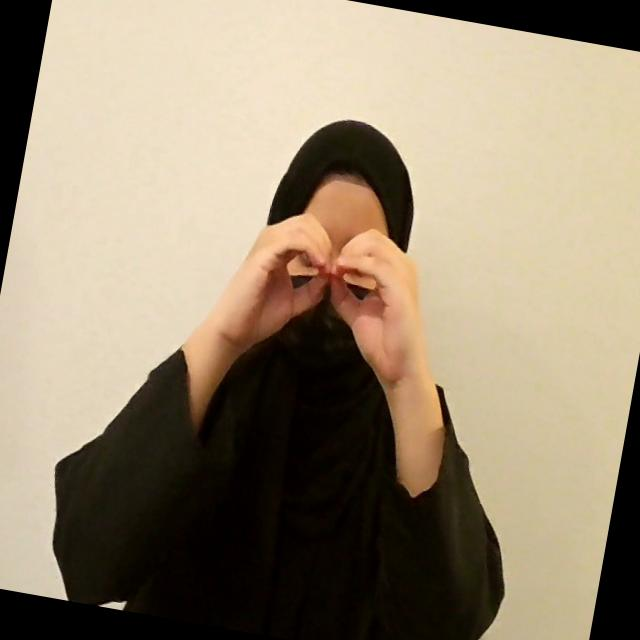analysis: (214, 198, 456, 378)
